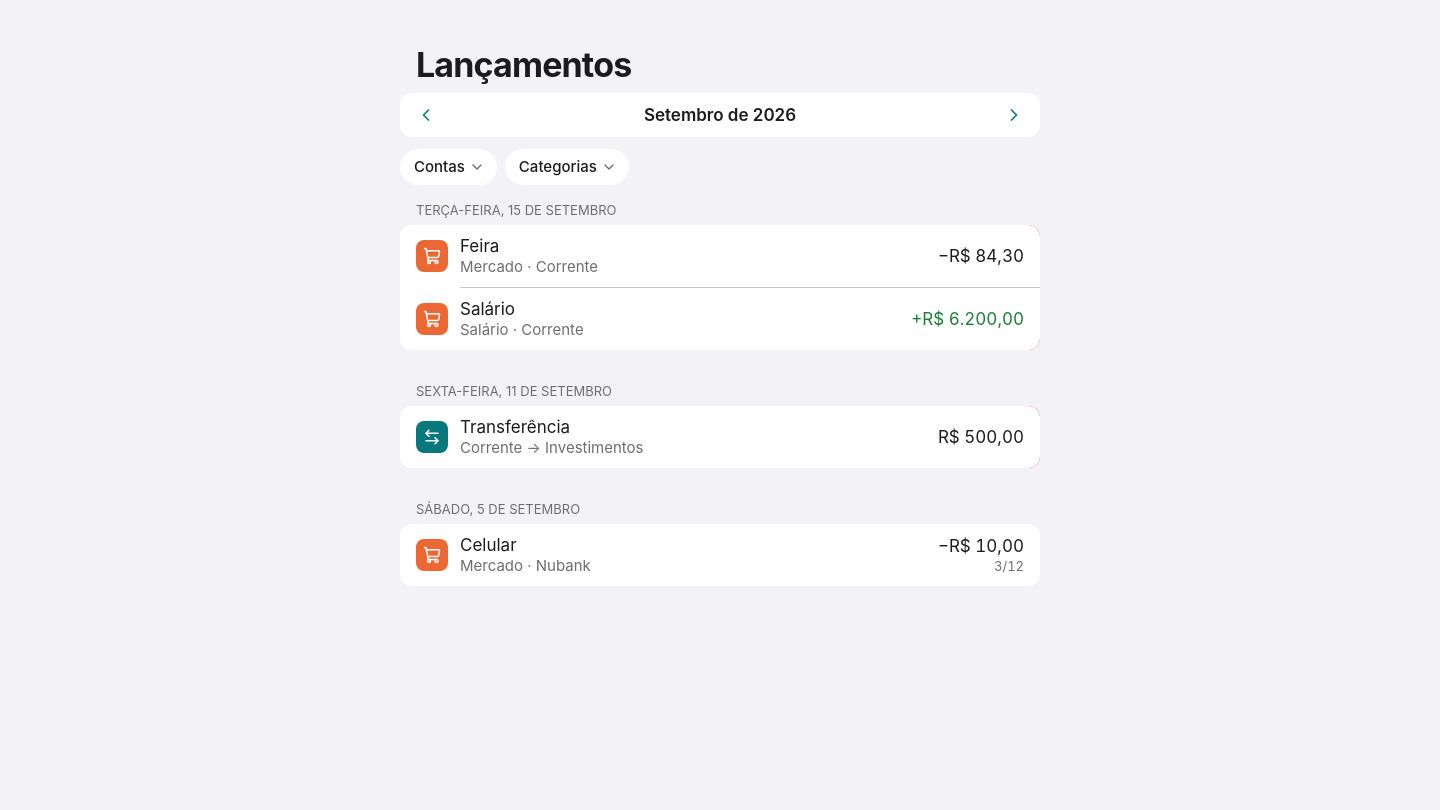
Test: TelaLancamentos › parcela abre só para leitura, explicando onde mudar
Step 1. Click the button "Celular Mercado · Nubank −R$ 10,00 3/12" → (432, 555), box [400,524,1040,586]
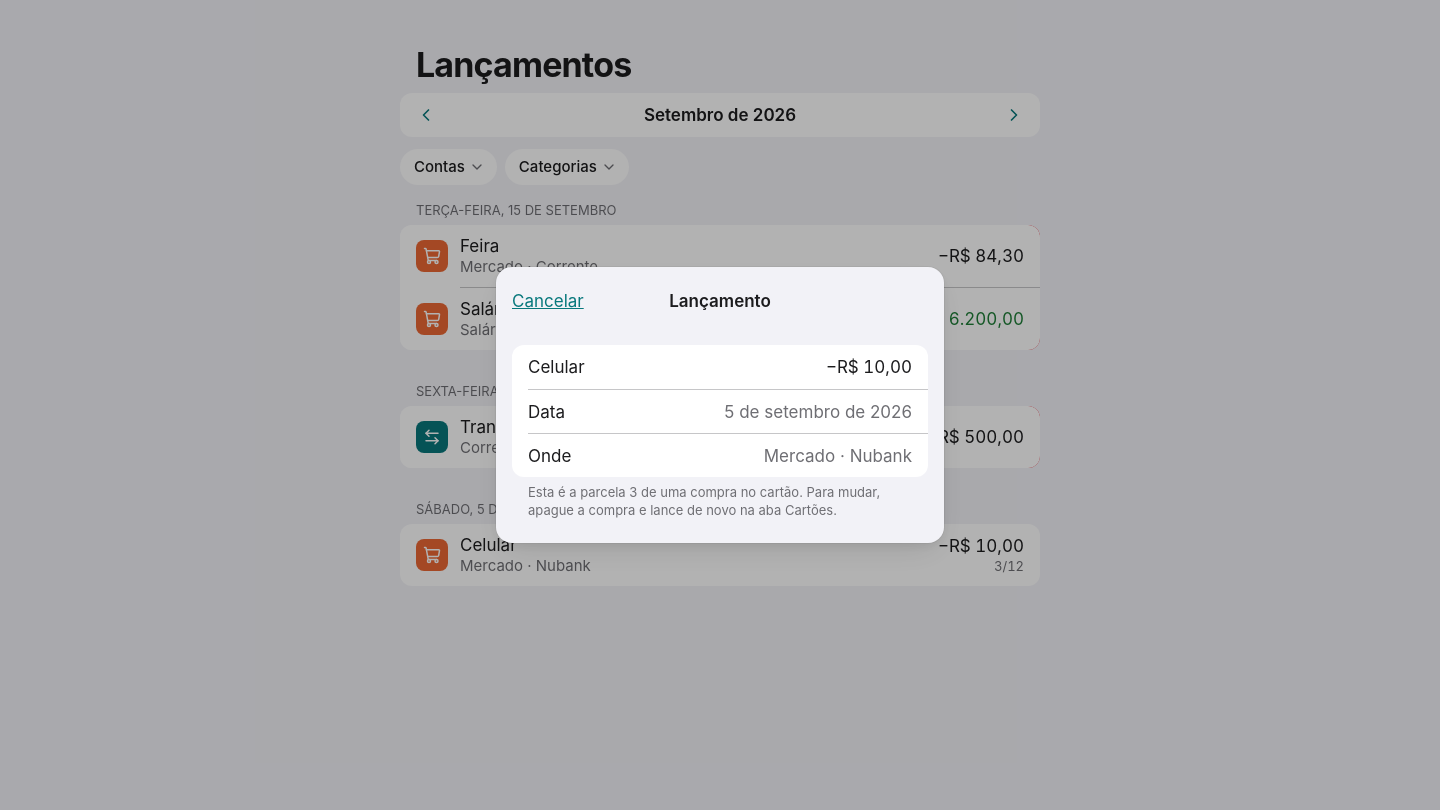
Check: the dialog "Lançamento" shows "Esta é a parcela 3 de uma compra no cartão", box [528,484,880,518]
